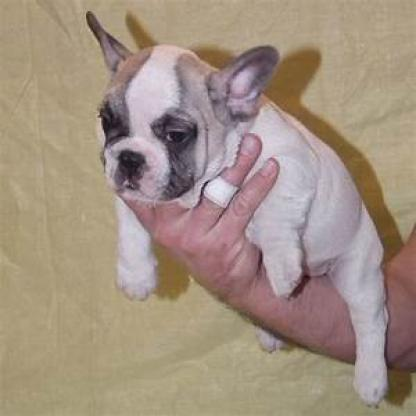dog: (86, 11, 390, 411)
